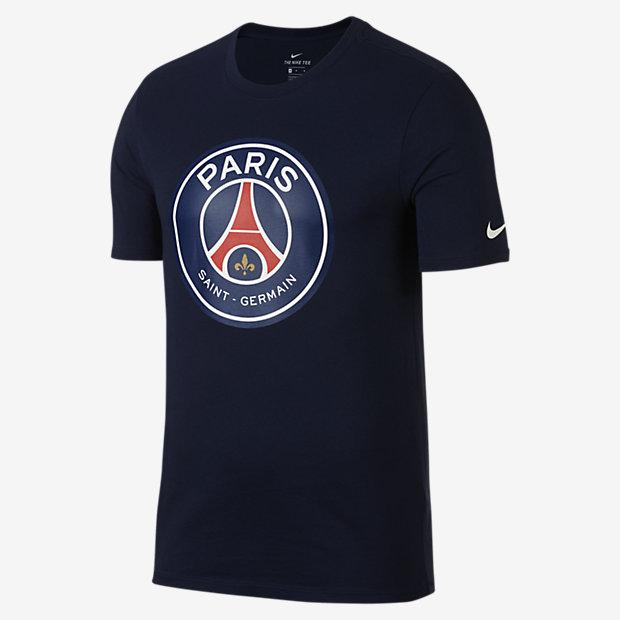teeshirt: (71, 5, 554, 620)
